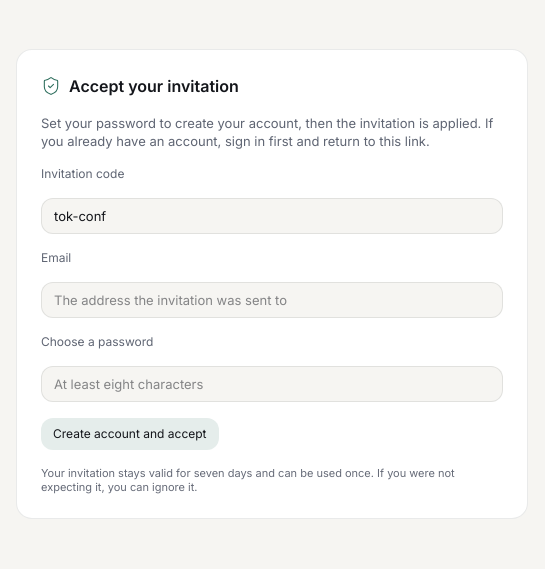
Test: OA-20 member invitation acceptance (C2.4) › is honest when the project requires email confirmation (no session yet)
Type "confirm.me@example.test" into the field with test id "oa-accept-email" at (272, 300), box [41,282,503,318]
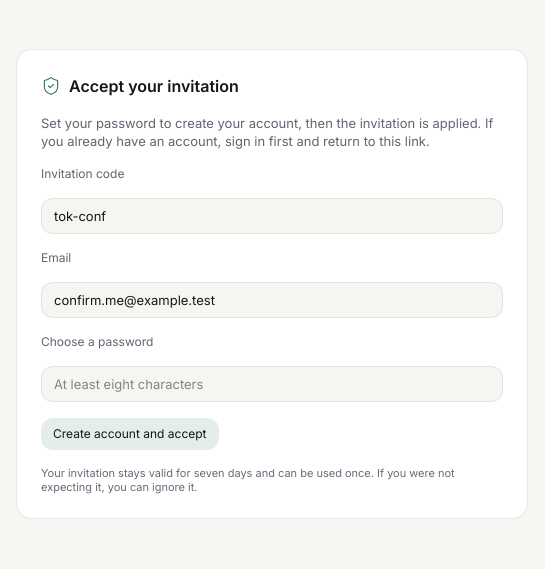
Type "a-long-enough-password" into the password field with test id "oa-accept-password" at (272, 384), box [41,366,503,402]
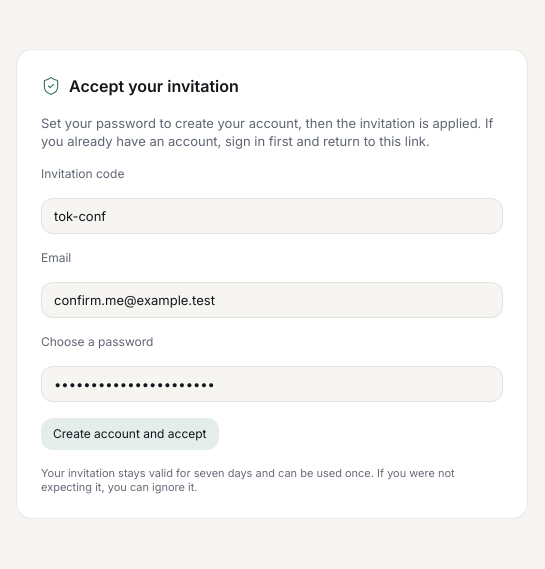
Click the button with test id "oa-accept-submit" at (130, 434), box [41,418,218,450]
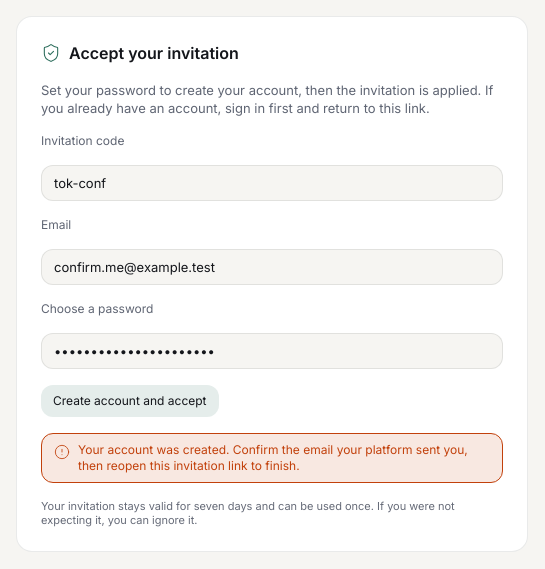
Expected: the message with test id "oa-accept-error" shows "Confirm", [78,442,468,473]
